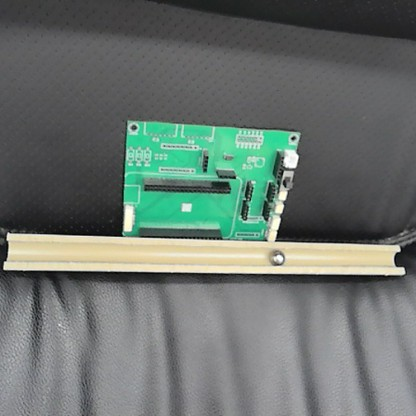ironball: (266, 246, 286, 267)
